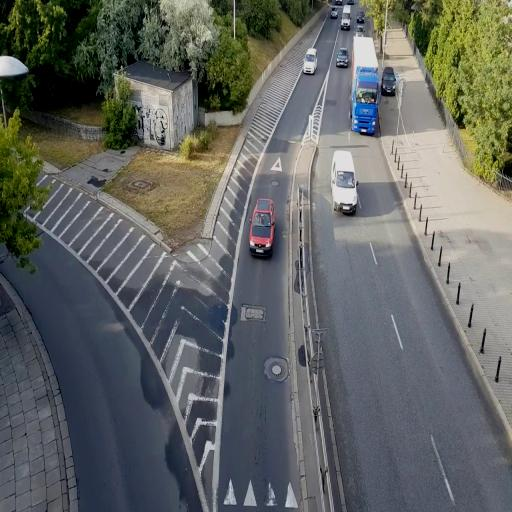vehicle: (350, 36, 380, 134), (330, 149, 359, 215), (250, 198, 276, 256), (380, 67, 398, 96), (302, 49, 318, 75), (340, 6, 352, 30), (336, 47, 349, 67), (330, 3, 342, 18)
